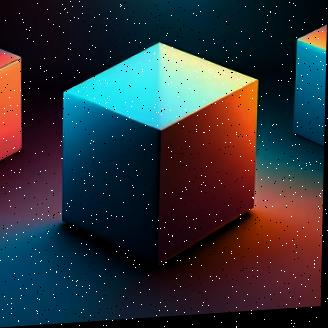cube: (61, 38, 259, 278)
